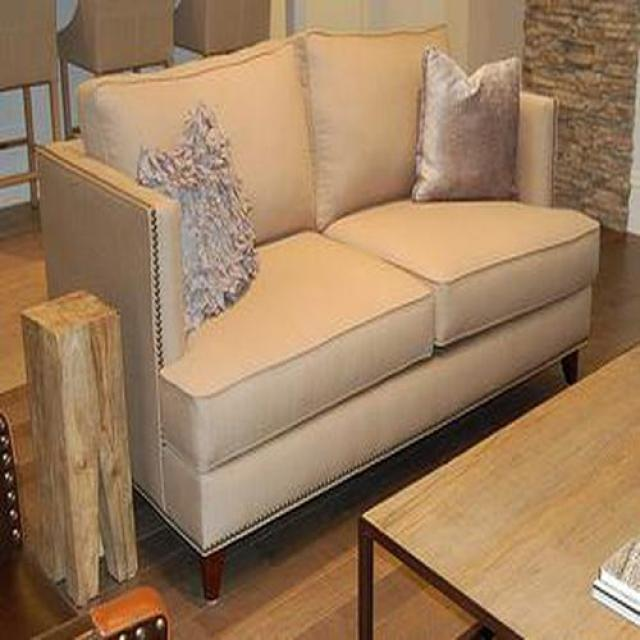sofa: (36, 28, 602, 604)
